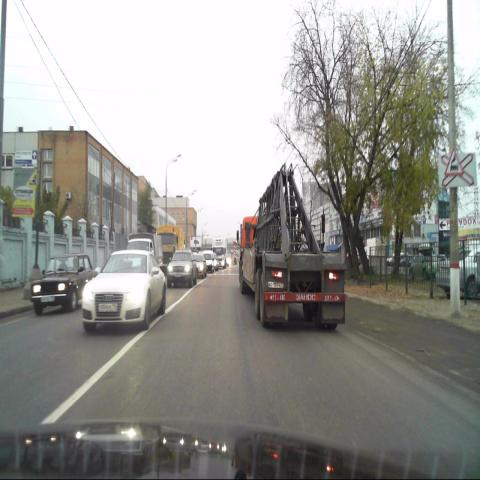1_2: (445, 148, 463, 175)
